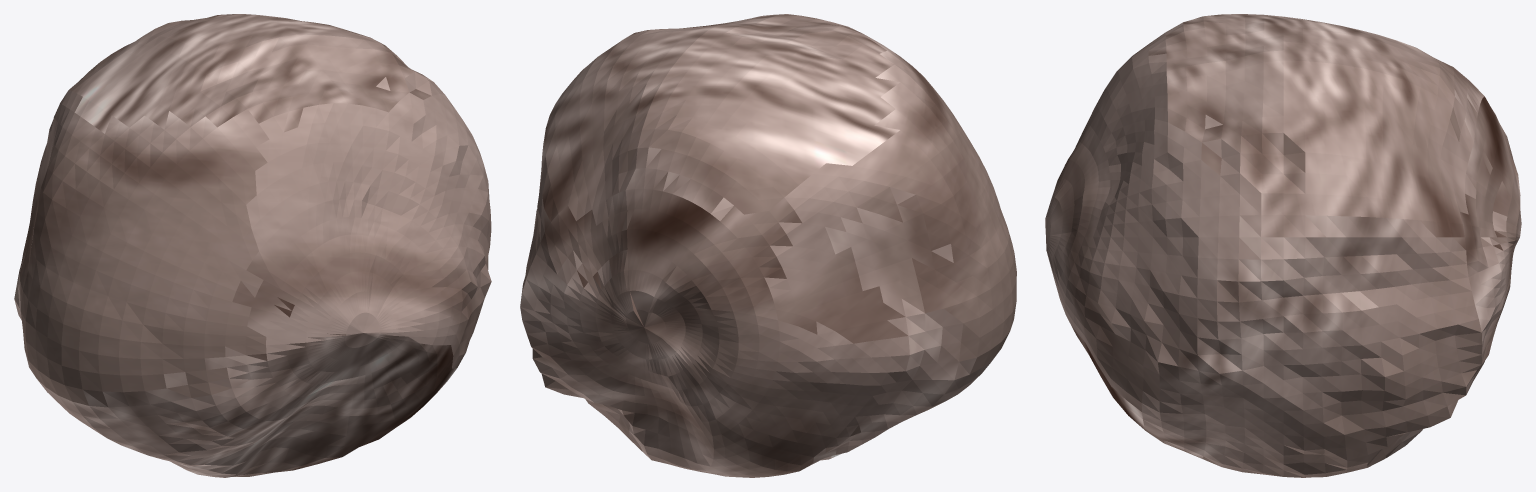
File: proteus.obj
3 renders of one model, left to right at view 1: azimuth 30°, elevation 25°; view 2: azimuth 150°, elevation 25°; view 3: azimuth 270°, elevation 25°, orthographic.
Parts seen in each view (by area): view 1: proteus; view 2: proteus; view 3: proteus.
Boxes of the visible parts, <box> form: proteus: <box>14,14,491,477</box>; proteus: <box>520,14,1016,477</box>; proteus: <box>1045,14,1521,477</box>.
Size of the model in its own units: 437 by 398 by 411.
